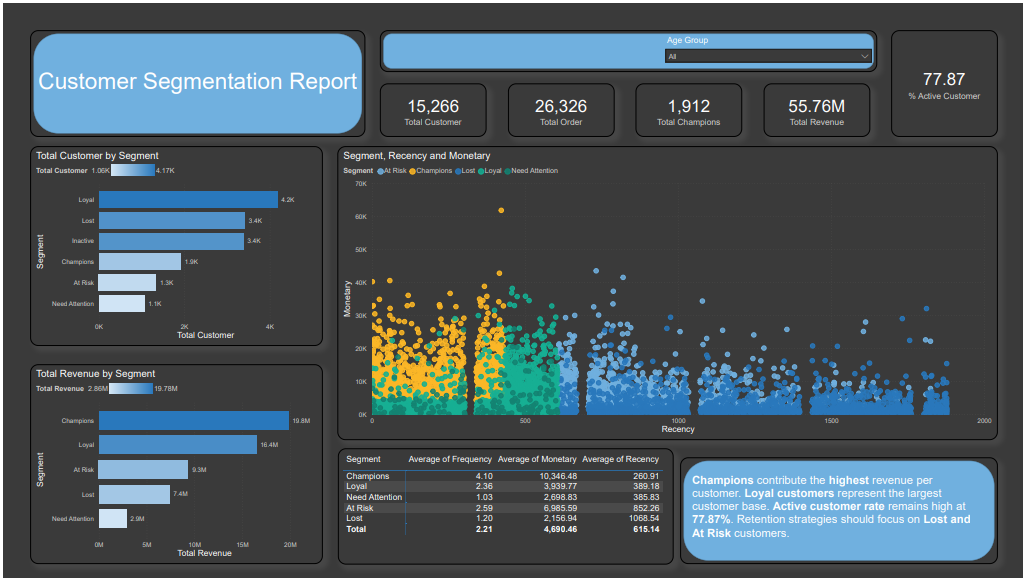

What the dashboard file says about the page in this screenshot:
{"tool":"powerbi","page":{"name":"Customer Segmentation","canvas":[1920,1080],"ordinal":0},"visuals":[{"type":"card","fields":{"Values":["Measure.Total Customer"]},"box":[708.3,150,200,100],"z":0},{"type":"card","fields":{"Values":["Measure.% Active Customer"]},"box":[1670,50,200,200],"z":1000},{"type":"card","fields":{"Values":["Measure.Total Order"]},"box":[948.8,150,200,100],"z":2000},{"type":"card","fields":{"Values":["Measure.Total Revenue"]},"box":[1429.6,150,200,100],"z":3000},{"type":"card","fields":{"Values":["Measure.Total Champions"]},"box":[1189.2,150,200,100],"z":4000},{"type":"clusteredBarChart","fields":{"Y":["Measure.Total Customer"],"Category":["RFM_Segmentation.Segment"]},"box":[50,268.3,550,375],"z":5000},{"type":"clusteredBarChart","fields":{"Y":["Measure.Total Revenue"],"Category":["RFM_Segmentation.Segment"]},"box":[50,678.3,550,375],"z":6000},{"type":"pivotTable","fields":{"Values":["Avg(RFM_Segmentation.Frequency)","Avg(RFM_Segmentation.Monetary)","Avg(RFM_Segmentation.Recency)"],"Rows":["Dim_segment.Segment"]},"box":[628.6,835.7,631.4,218.6],"z":7000},{"type":"scatterChart","fields":{"X":["RFM_Segmentation.Recency"],"Y":["RFM_Segmentation.Monetary"],"Series":["RFM_Segmentation.Segment"]},"box":[628.3,268.3,1241.7,551.7],"z":8000},{"type":"shape","box":[1273.3,853.3,596.7,200],"z":9000},{"type":"textbox","box":[1290.2,878.3,552.9,150],"z":10000},{"type":"shape","box":[50,50,630,200],"z":11000},{"type":"textbox","box":[50,116.7,630,66.7],"z":12000},{"type":"shape","box":[708.3,50,935,78.3],"z":13000},{"type":"slicer","fields":{"Values":["Customers_cleaned.Age Group"]},"box":[1235,55,408.3,78.3],"z":14000}]}

Visuals, with their boxes in screenshot pixels (x1, y1, x2, y2), scaled from the page's 1920x1080 canvas onto the 1023x578 screenshot:
card - Measure.Total Customer: bbox=[377, 80, 484, 134]
card - Measure.% Active Customer: bbox=[890, 27, 996, 134]
card - Measure.Total Order: bbox=[506, 80, 612, 134]
card - Measure.Total Revenue: bbox=[762, 80, 868, 134]
card - Measure.Total Champions: bbox=[634, 80, 740, 134]
clusteredBarChart - Measure.Total Customer x RFM_Segmentation.Segment: bbox=[27, 144, 320, 344]
clusteredBarChart - Measure.Total Revenue x RFM_Segmentation.Segment: bbox=[27, 363, 320, 564]
pivotTable - Avg(RFM_Segmentation.Frequency) x Avg(RFM_Segmentation.Monetary): bbox=[335, 447, 671, 564]
scatterChart - RFM_Segmentation.Recency x RFM_Segmentation.Monetary: bbox=[335, 144, 996, 439]
shape: bbox=[678, 457, 996, 564]
textbox: bbox=[687, 470, 982, 550]
shape: bbox=[27, 27, 362, 134]
textbox: bbox=[27, 62, 362, 98]
shape: bbox=[377, 27, 876, 69]
slicer - Customers_cleaned.Age Group: bbox=[658, 29, 876, 71]
